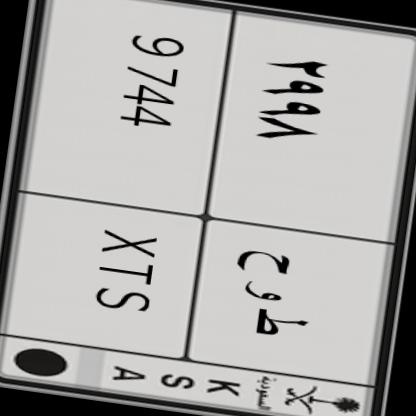english: (0, 0, 246, 368)
